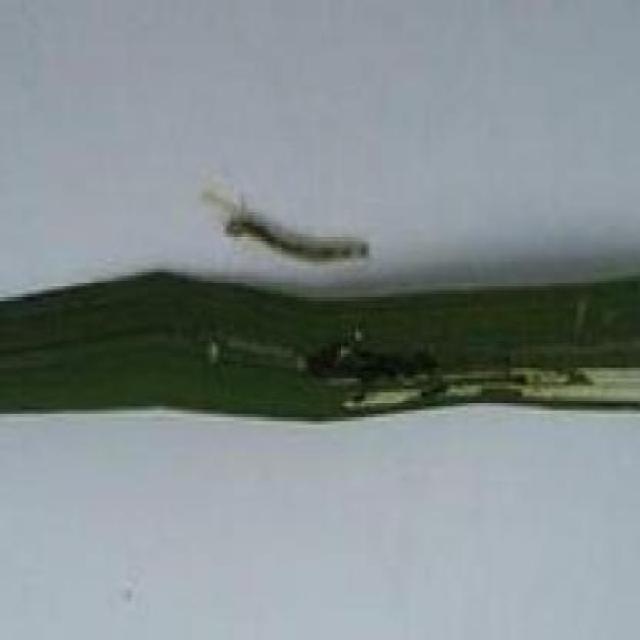leaf-folder: (189, 171, 431, 287)
